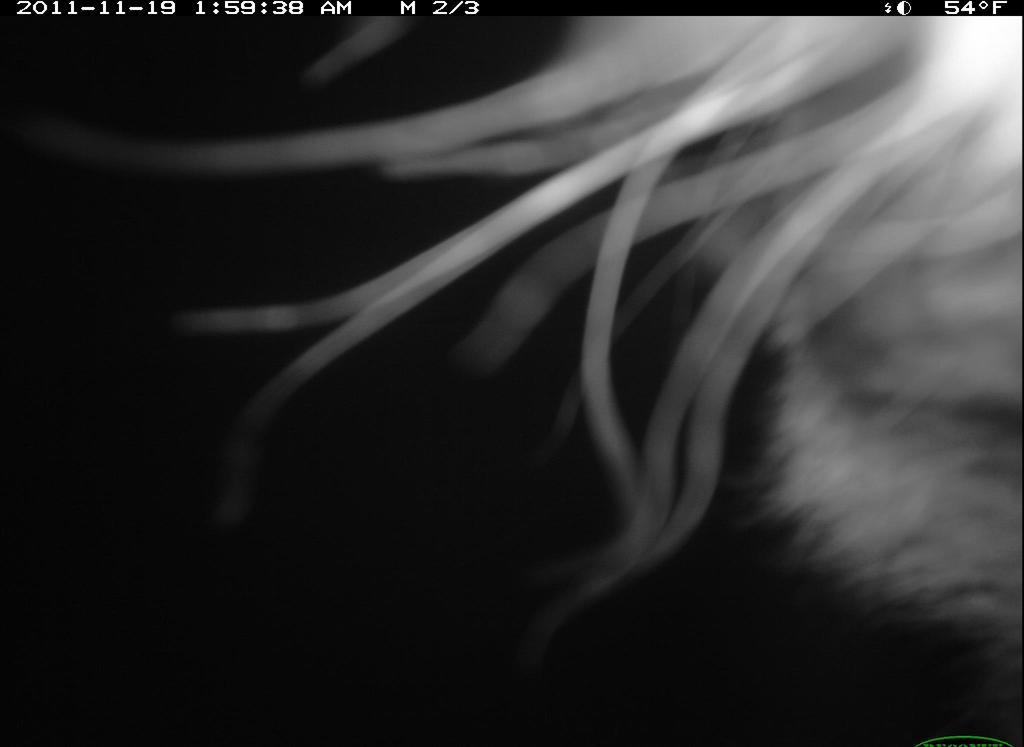raccoon: (137, 1, 1017, 744)
